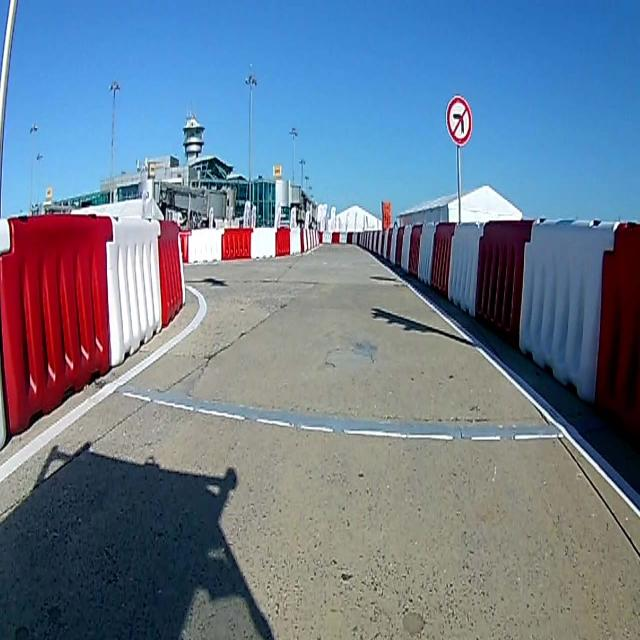soladonulmez: (447, 96, 472, 145)
